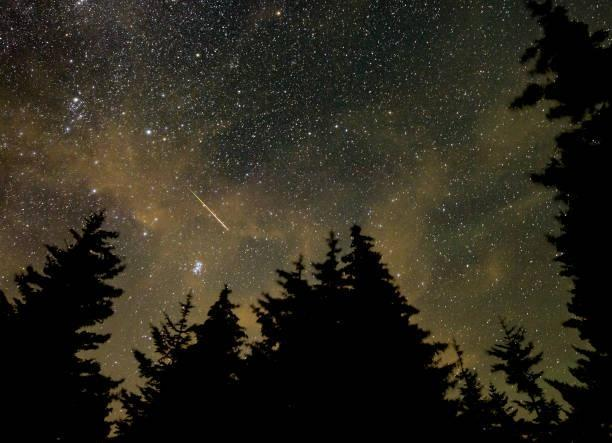meteorite: (172, 172, 247, 233)
